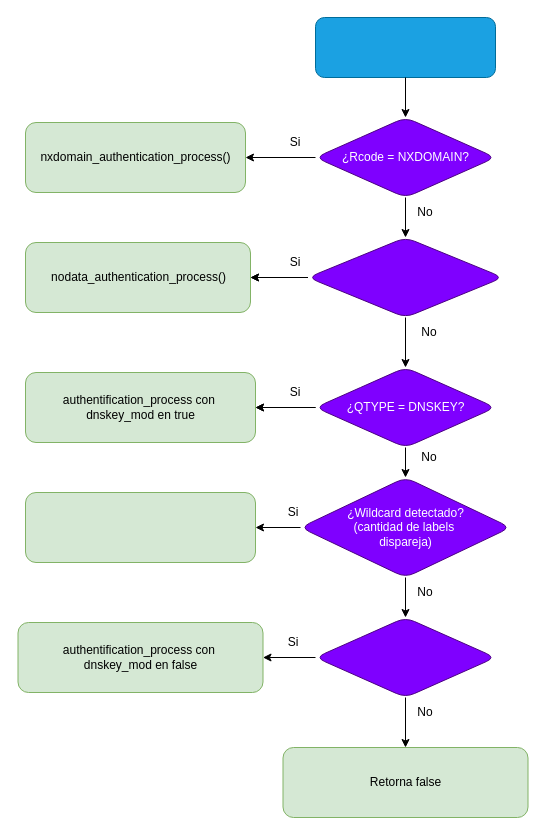
The diagram is 545 pixels wide and 835 high, and some of its shapes have lost their labels. The box of each missing label's shape, as (x1, y1, x2, y2) in pixels:
Ejecutar lookup_data(): (314, 16, 496, 78)
wildcard_authentication_process(): (24, 492, 256, 562)
¿Existen RRSIG?: (314, 616, 496, 698)
¿NOERROR + Answer vacío + NSEC en Authority?: (307, 236, 503, 318)
